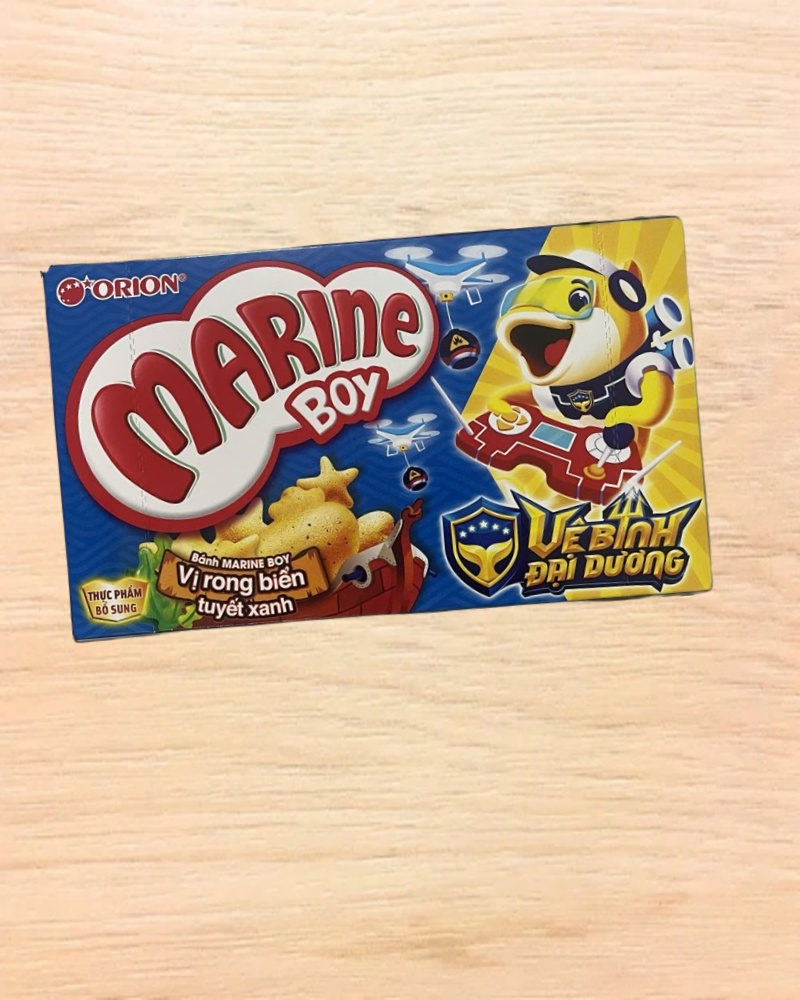Marine: (43, 211, 717, 648)
